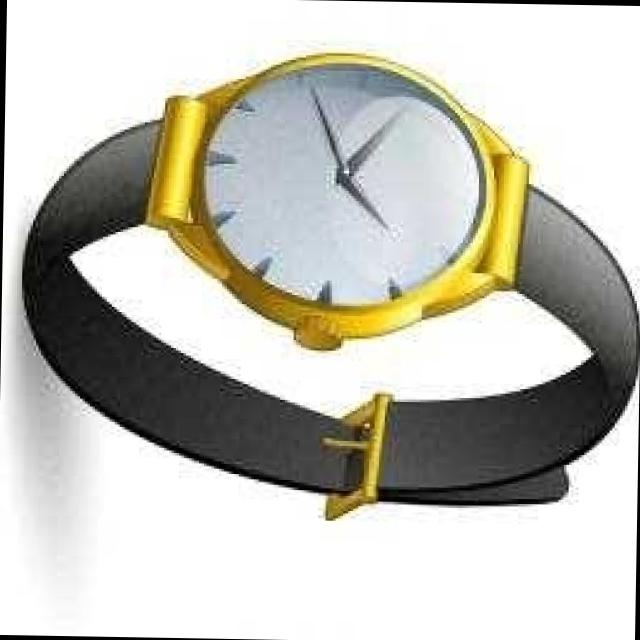saat: (10, 37, 640, 534)
